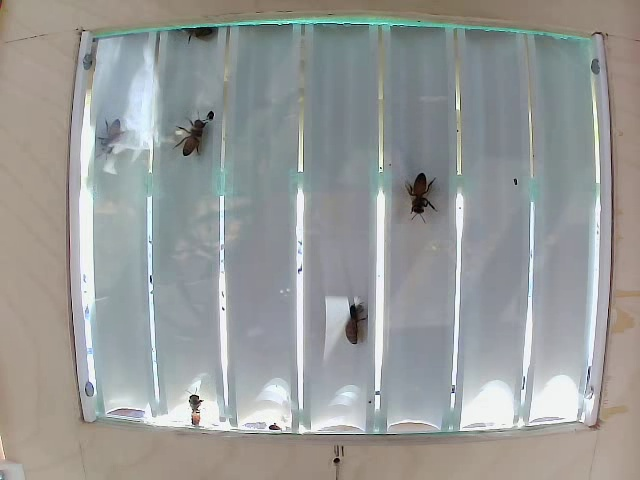bee: (179, 115, 217, 158), (94, 114, 132, 156), (409, 168, 434, 230), (342, 289, 365, 347)
